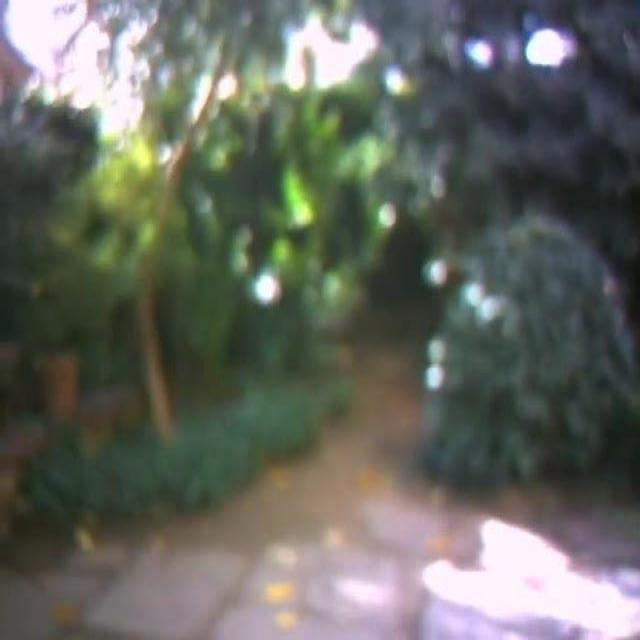other: (6, 1, 598, 126)
